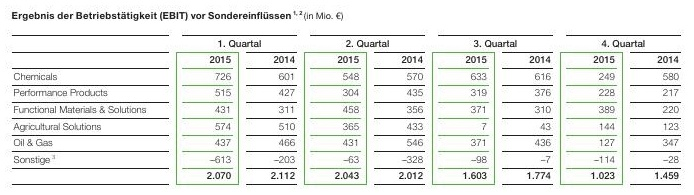table: (0, 0, 694, 195)
